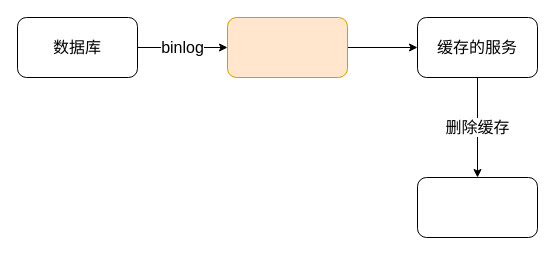
Some shapes in this 555 by 255 pixel diagram are drawn without their labels. Each missing label, with the centre of its shape:
Canal 中间件: (x=287, y=47)
Reids: (x=477, y=207)
